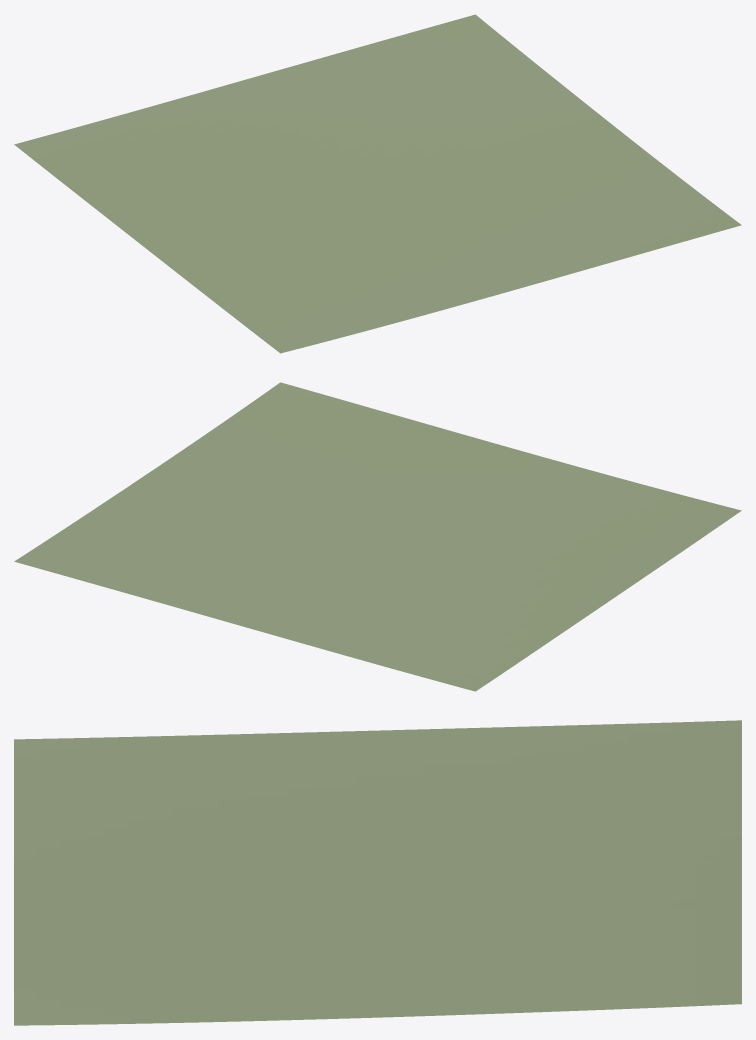
The model's file is expanse-25-24.glb.
The picture shows the model from 3 angles, top to bottom: view 1: azimuth 30°, elevation 25°; view 2: azimuth 150°, elevation 25°; view 3: azimuth 270°, elevation 25°; orthographic projection. The views are drawn at different scales.
Parts seen in each view (by area): view 1: expanse-25-24; view 2: expanse-25-24; view 3: expanse-25-24.
Boxes of the visible parts, bbox=[...] form: expanse-25-24: bbox=[14, 14, 741, 353]; expanse-25-24: bbox=[14, 382, 741, 691]; expanse-25-24: bbox=[14, 720, 741, 1025].
Bounding box in the file's own units: 256 × 16.63 × 256.
